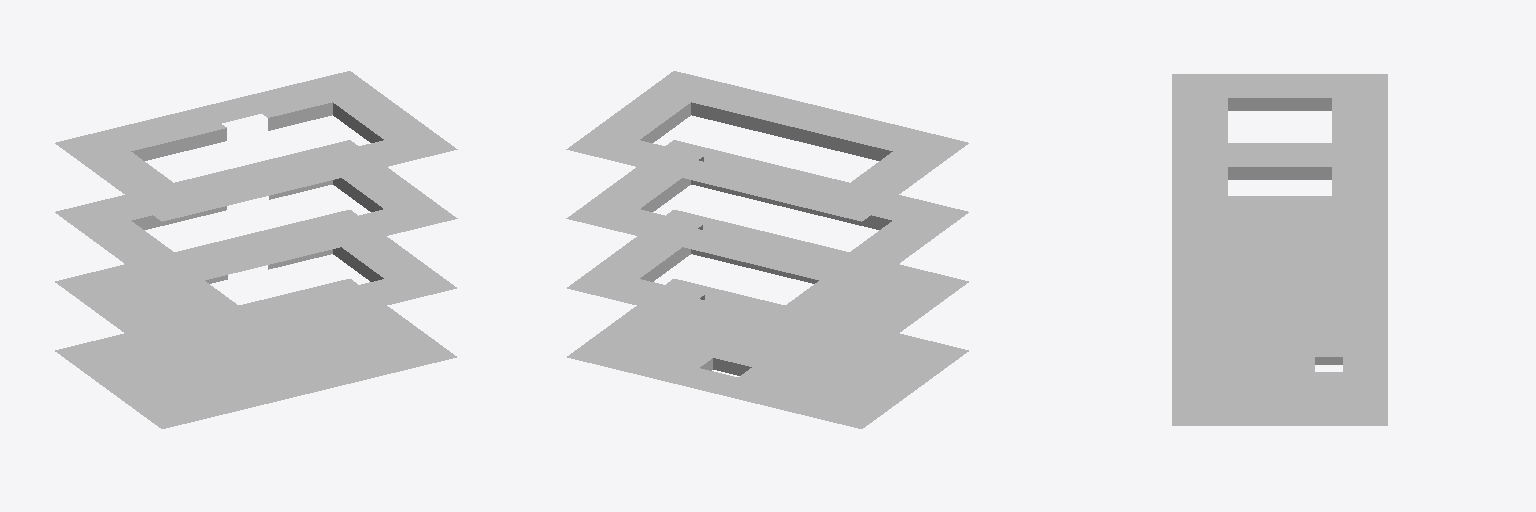
Rendered from mall_floor.obj.
3 views of the same model, side by side, from view 1: azimuth 30°, elevation 25°; view 2: azimuth 150°, elevation 25°; view 3: azimuth 270°, elevation 25° (orthographic).
Parts seen in each view (by area): view 1: floors_floors; view 2: floors_floors; view 3: floors_floors.
Part boxes in pixels (x1,y1,x2,y2): floors_floors: (55, 71, 457, 428); floors_floors: (566, 71, 968, 428); floors_floors: (1172, 74, 1387, 425).
Size of the model in its own units: 357 by 253 by 226.